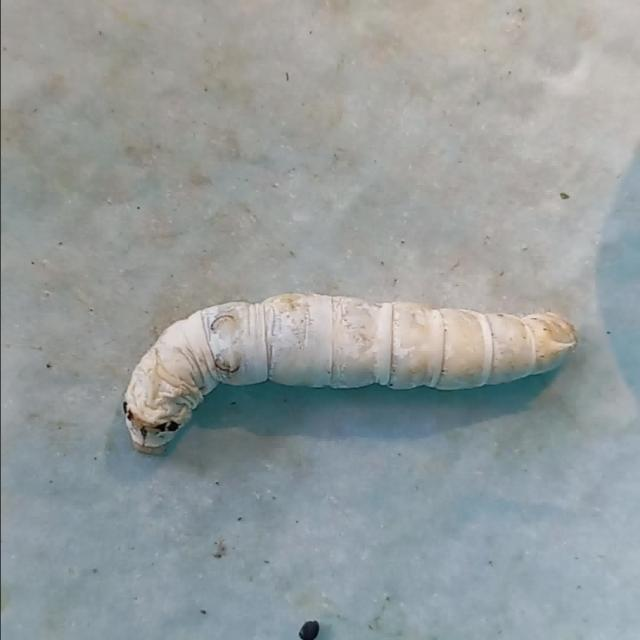Grasserie: (100, 260, 599, 483)
